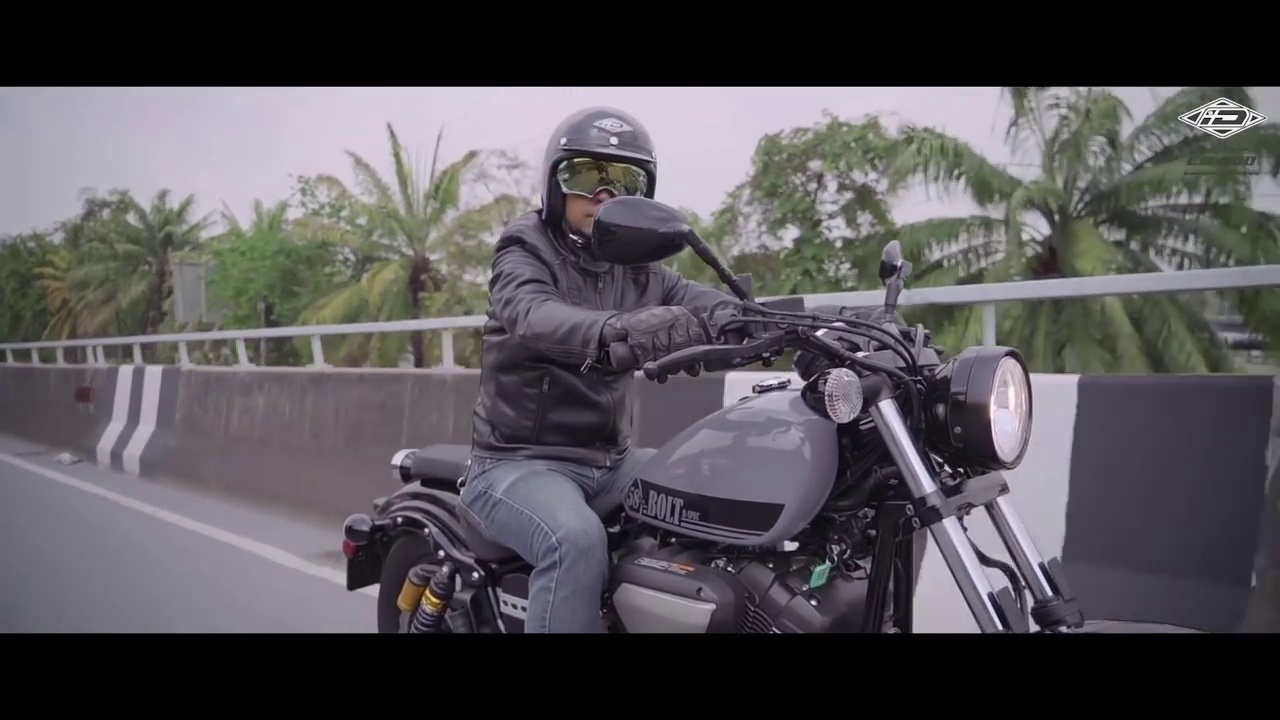helmet: (535, 102, 664, 200)
